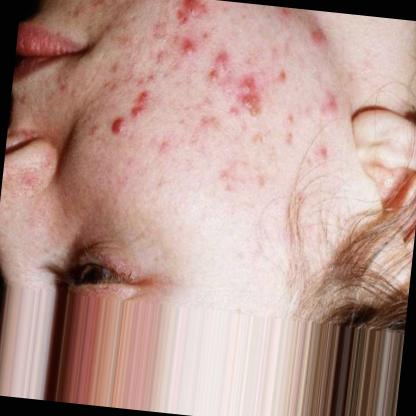Acne: (201, 43, 234, 94), (234, 71, 264, 124), (106, 105, 132, 143), (171, 0, 206, 27), (176, 29, 198, 67)
